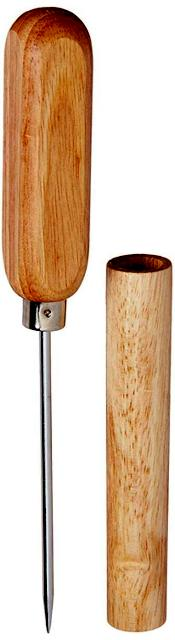ice pick: (0, 4, 96, 636)
